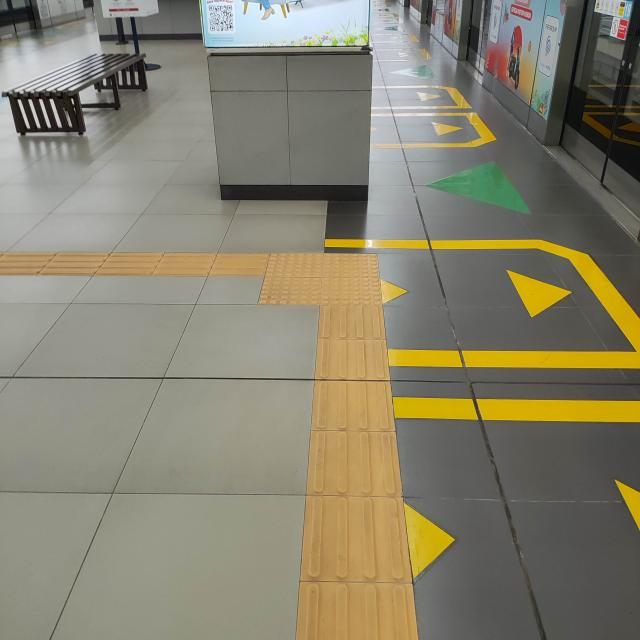kiri: (179, 210, 407, 340)
